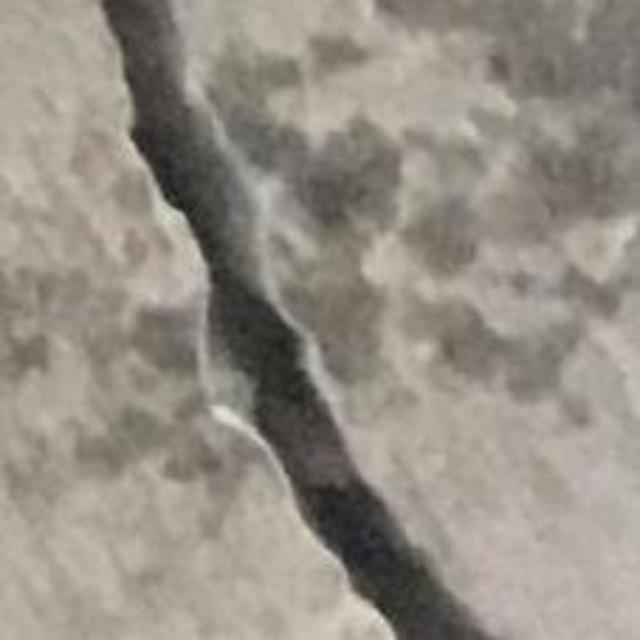crack: (99, 0, 499, 639)
